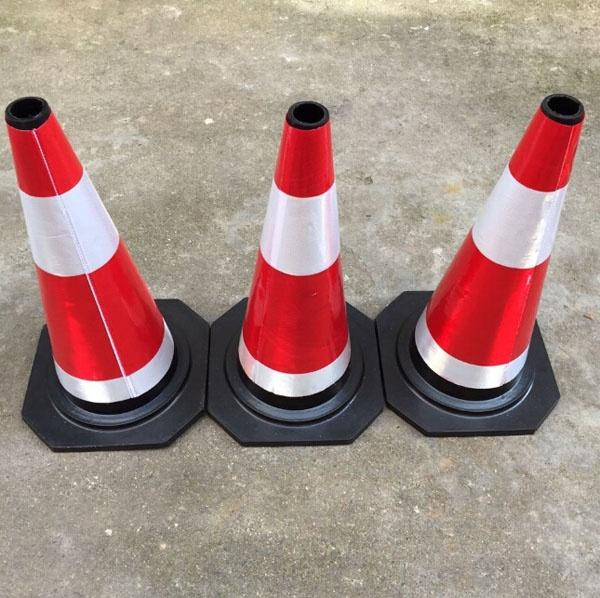cone_barrel: (398, 96, 596, 411), (222, 98, 366, 420)
